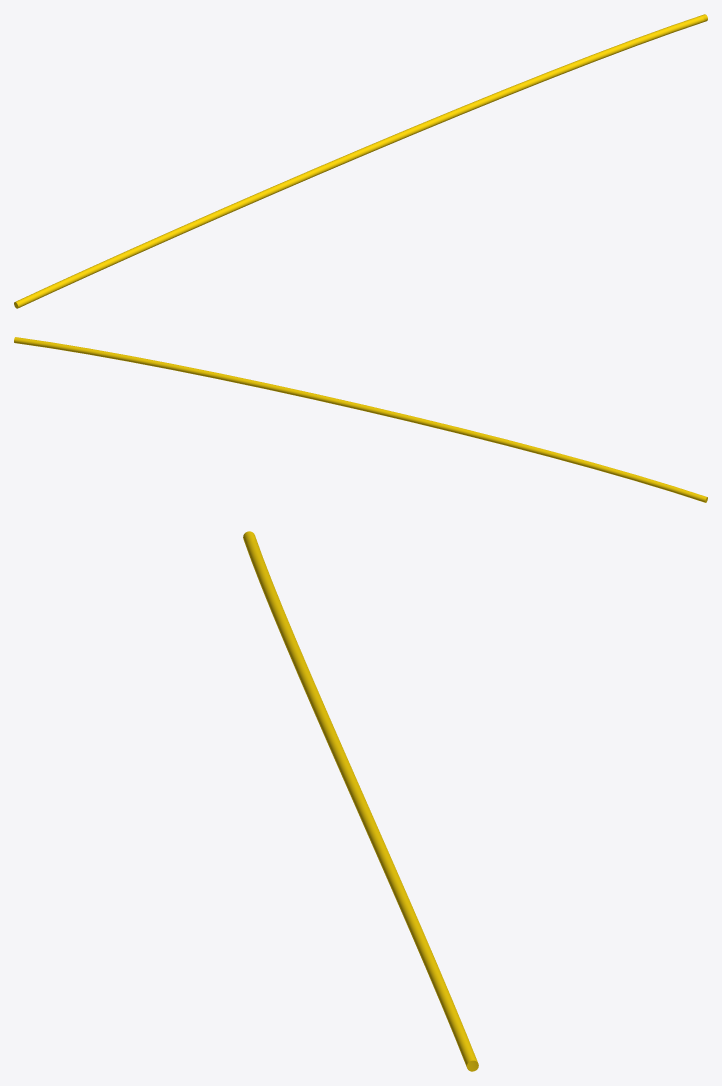
The model's file is Event_421127236_track_51.fbx.
The picture shows the model from 3 angles, top to bottom: view 1: azimuth 30°, elevation 25°; view 2: azimuth 150°, elevation 25°; view 3: azimuth 270°, elevation 25°; orthographic projection. The views are drawn at different scales.
Visible parts, largest first — view 1: Model; view 2: Model; view 3: Model.
Boxes of the visible parts, bbox=[...] form: Model: bbox=[14, 14, 707, 308]; Model: bbox=[14, 337, 707, 502]; Model: bbox=[243, 531, 478, 1071].
Bounding box in the file's own units: 4.8 × 0.3722 × 0.7703.
